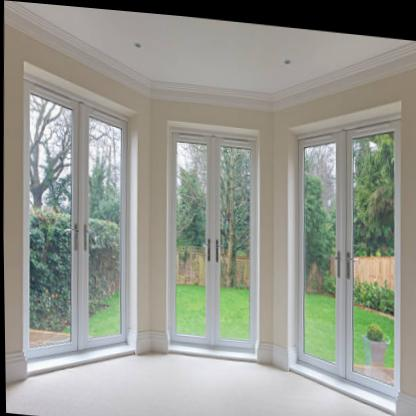Window: (293, 108, 401, 393), (22, 78, 129, 363), (168, 118, 258, 352)
